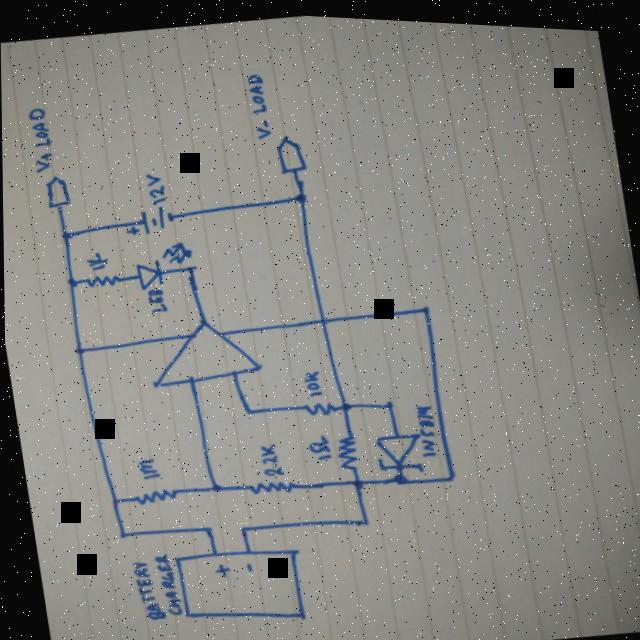crossover: (314, 310, 329, 322)
diode: (131, 235, 193, 290), (371, 423, 425, 474)
junction: (389, 467, 410, 483), (291, 186, 309, 202), (207, 477, 223, 492), (348, 472, 364, 487), (60, 226, 74, 240), (65, 275, 79, 289), (337, 396, 352, 409), (381, 393, 396, 406), (417, 298, 432, 311), (200, 520, 213, 534), (357, 511, 372, 523), (444, 466, 457, 479), (72, 343, 85, 356), (184, 260, 198, 272), (234, 520, 248, 530), (116, 528, 127, 539), (108, 494, 119, 504), (242, 404, 253, 413)
resistor: (246, 472, 298, 496), (332, 429, 362, 469), (131, 482, 178, 507), (299, 394, 338, 416), (84, 270, 121, 288)
source: (171, 535, 307, 632), (136, 198, 183, 238)
terminal: (270, 128, 311, 173), (40, 171, 73, 210)
text: (24, 101, 59, 176), (128, 557, 165, 620), (152, 548, 182, 616), (244, 68, 273, 138), (413, 397, 440, 454), (256, 437, 284, 475), (143, 170, 168, 203), (135, 452, 162, 480), (305, 428, 330, 458), (83, 246, 110, 272), (144, 283, 167, 313), (300, 366, 321, 394)
